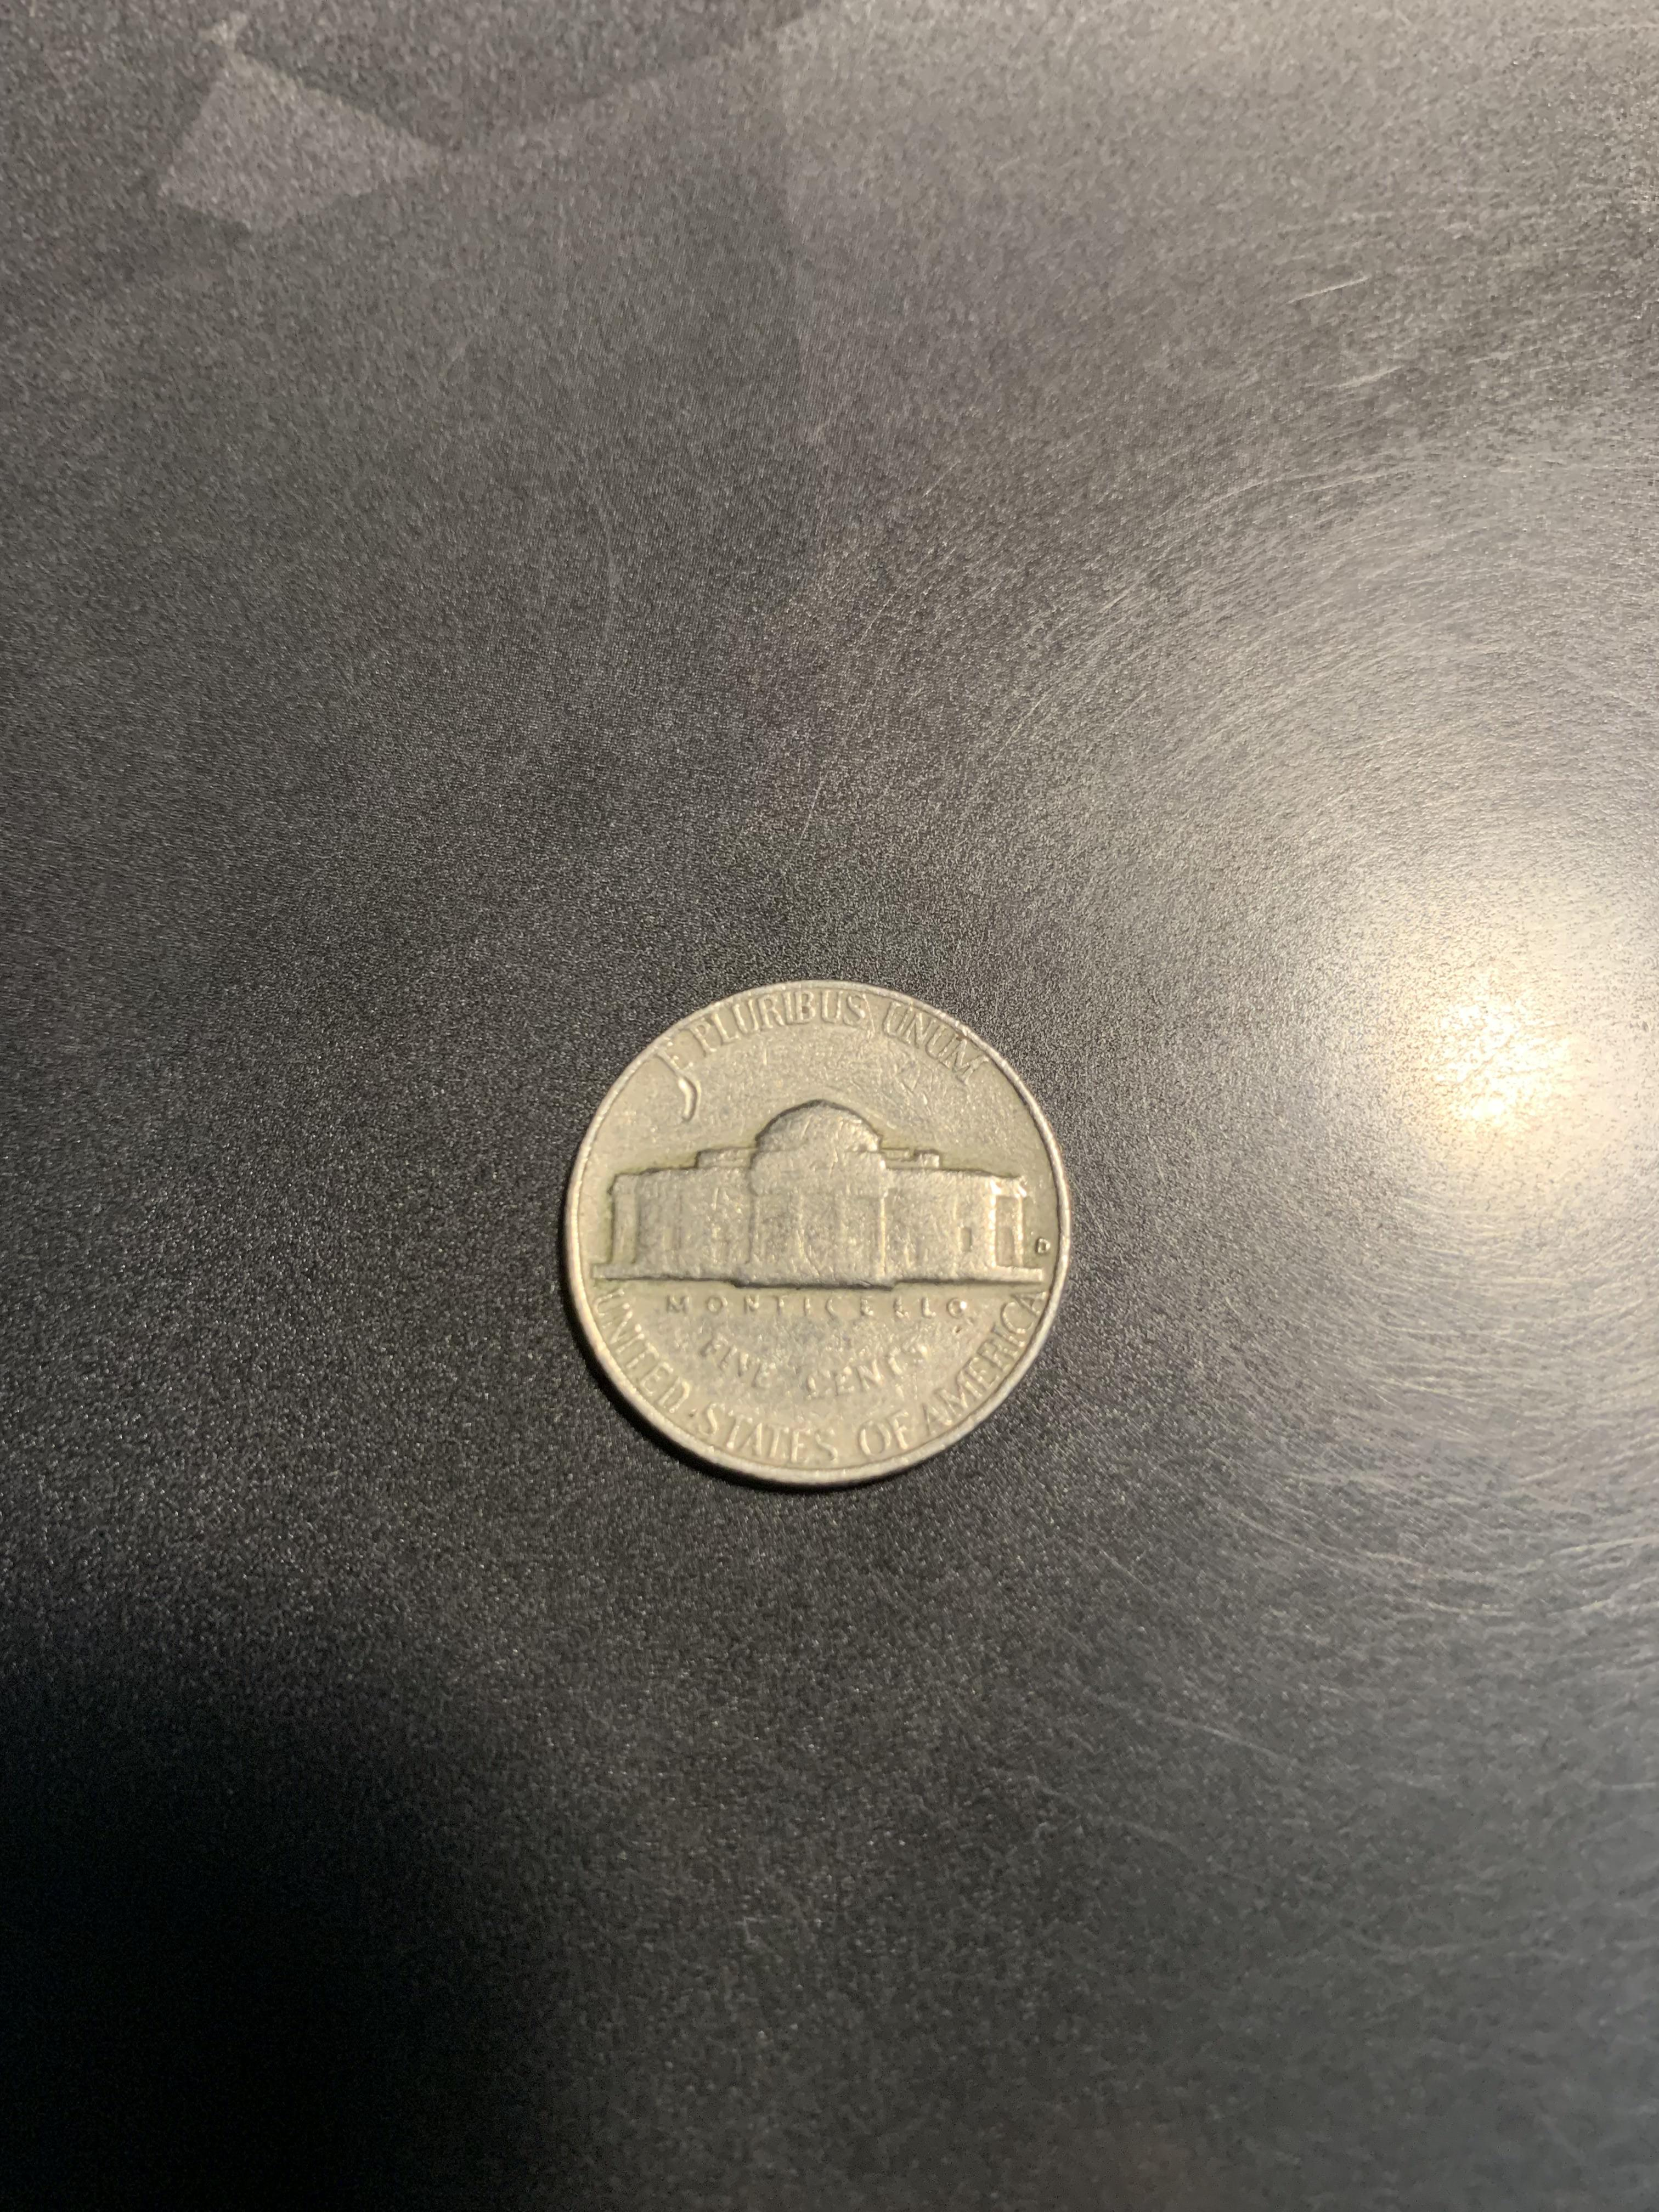Nickel: (533, 937, 1121, 1517)
